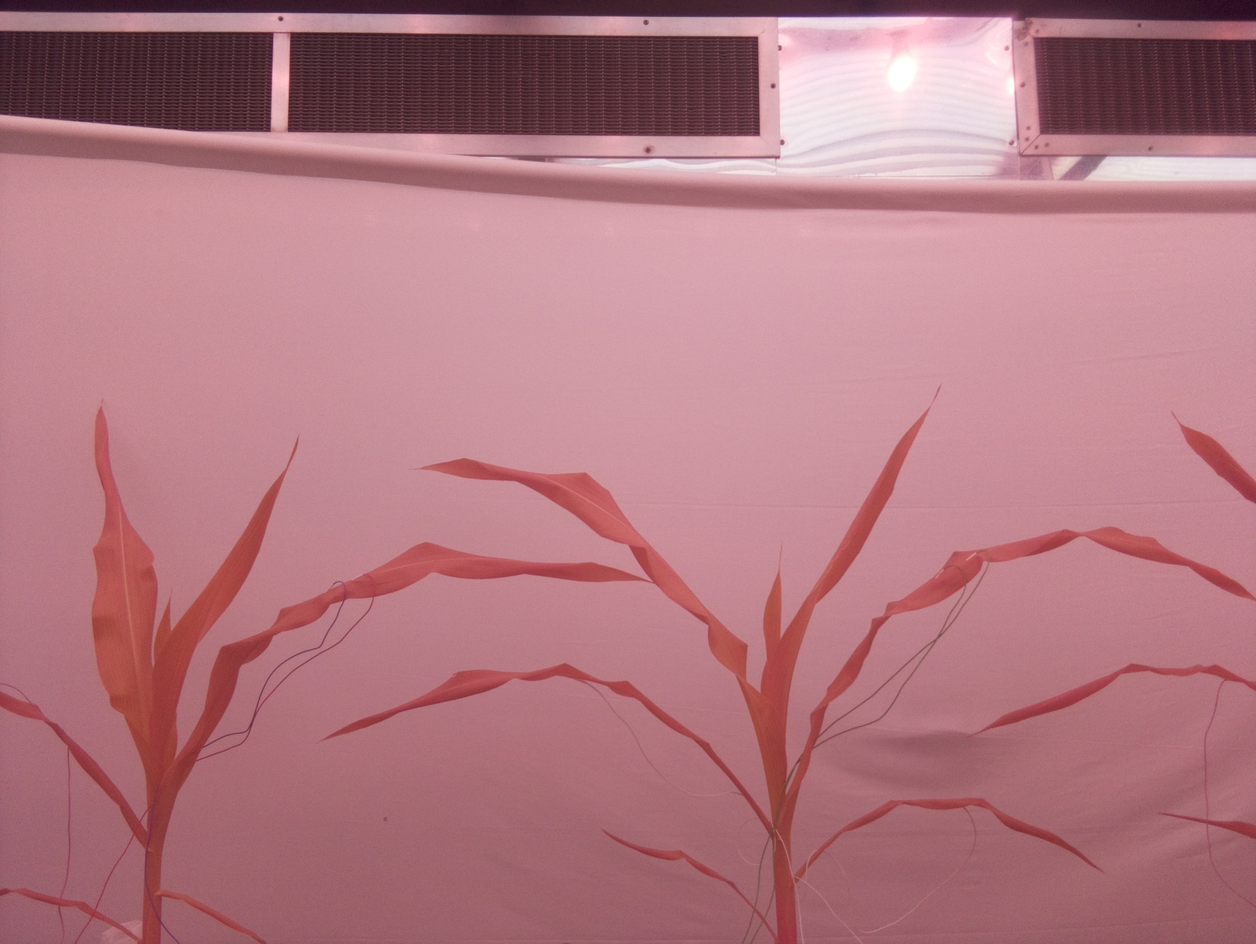maize: (319, 384, 1256, 944), (0, 398, 652, 944)
